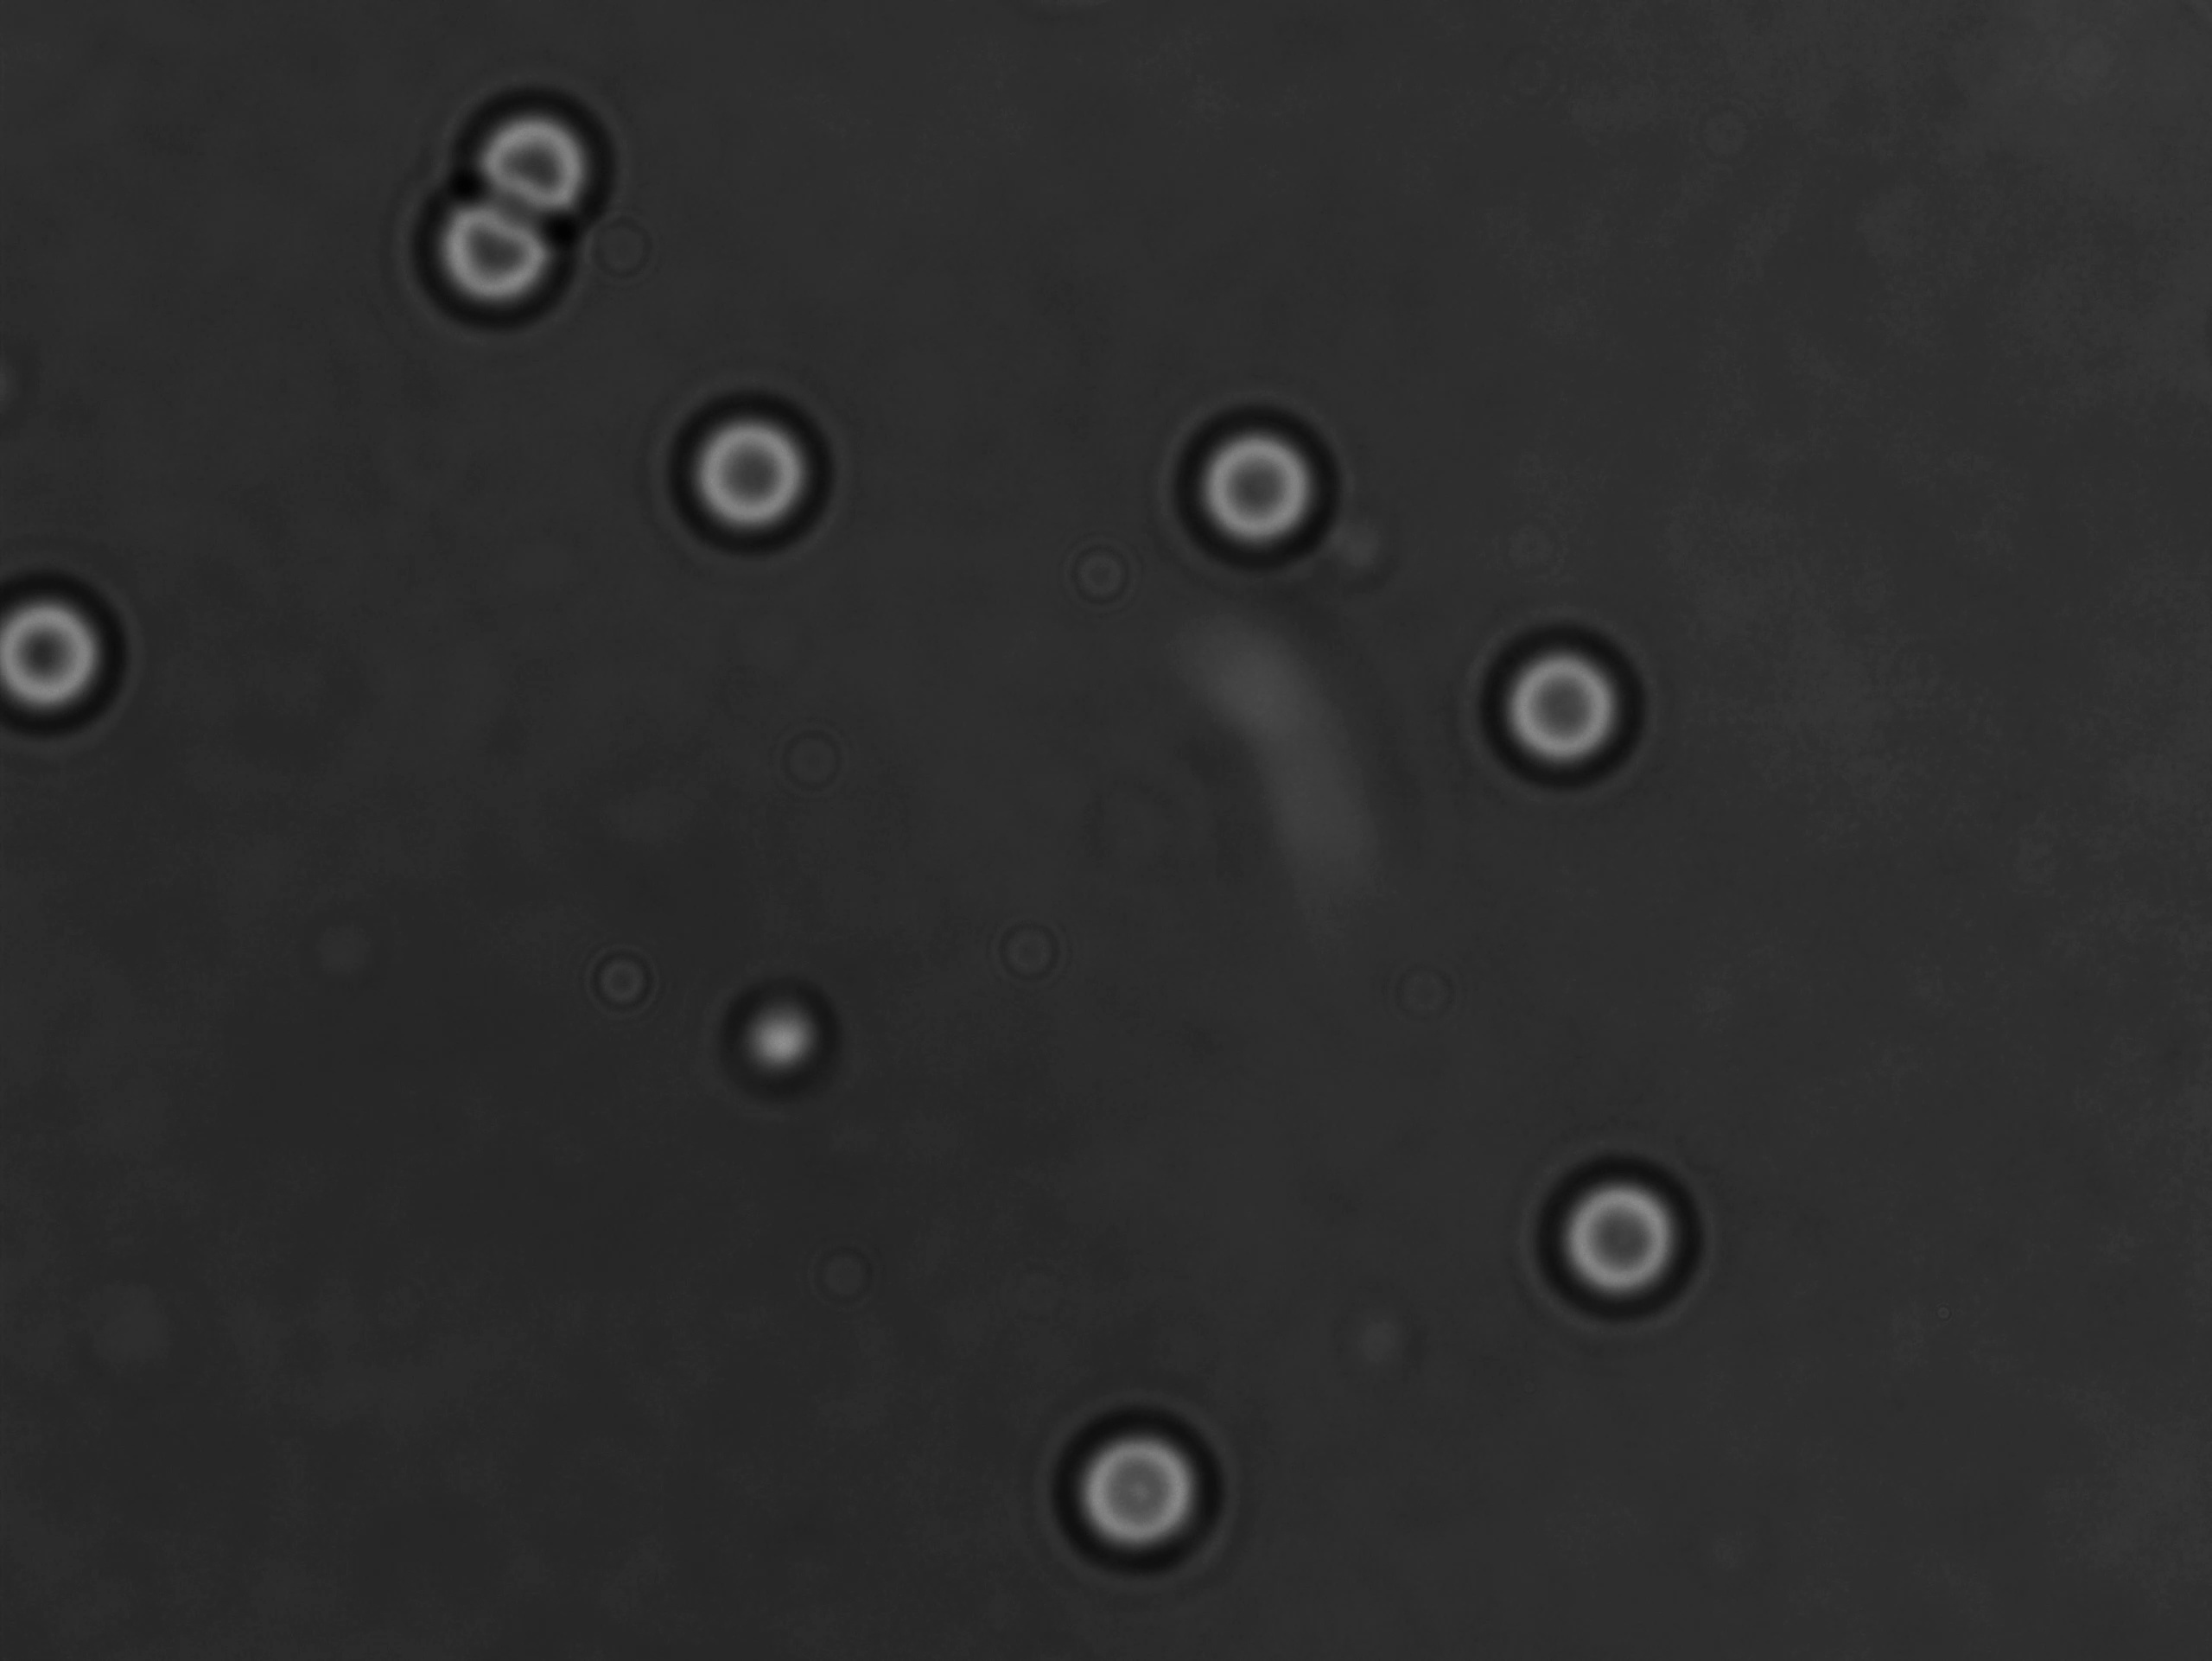depth:60: (1158, 382, 1361, 579), (1036, 1384, 1235, 1574), (1465, 612, 1662, 794), (1532, 1132, 1713, 1328), (663, 379, 839, 558)
